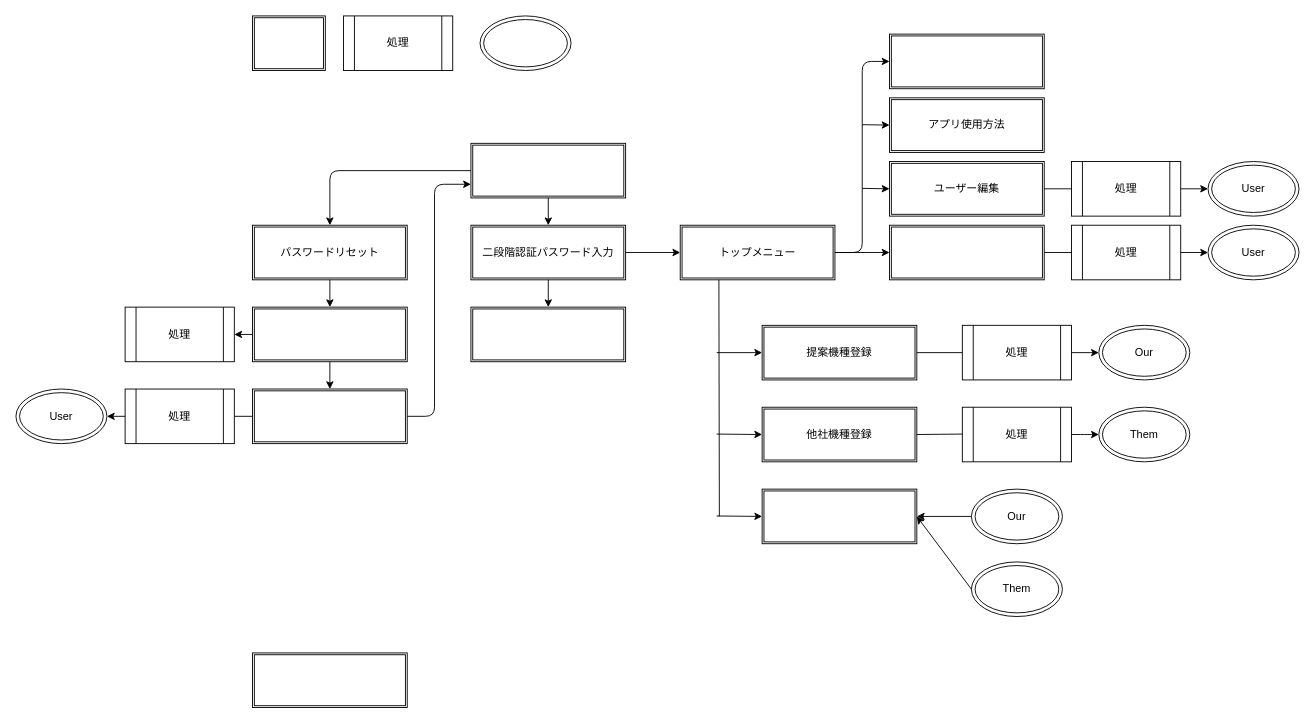
Image size: 1315x723. Some labels were removed from this diagram. Each missing label, with the centre of its shape:
システムエラー: point 329,680
テーブル: point 525,43
パスワードリセットメール 送付完了: point 329,334
パスワード再設定: point 329,416
パスワード有効期限切れ: point 548,334
パスワード編集: point 966,252
ログイン: point 548,170
問い合わせ: point 966,61
提案機種比較: point 839,516
画面: point 288,43
